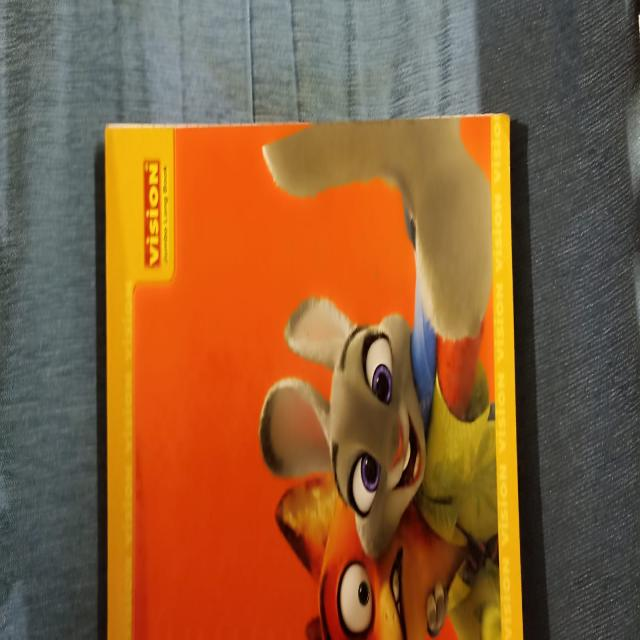book: (100, 117, 523, 640)
